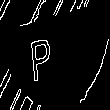P_N: (42, 27, 68, 83)
